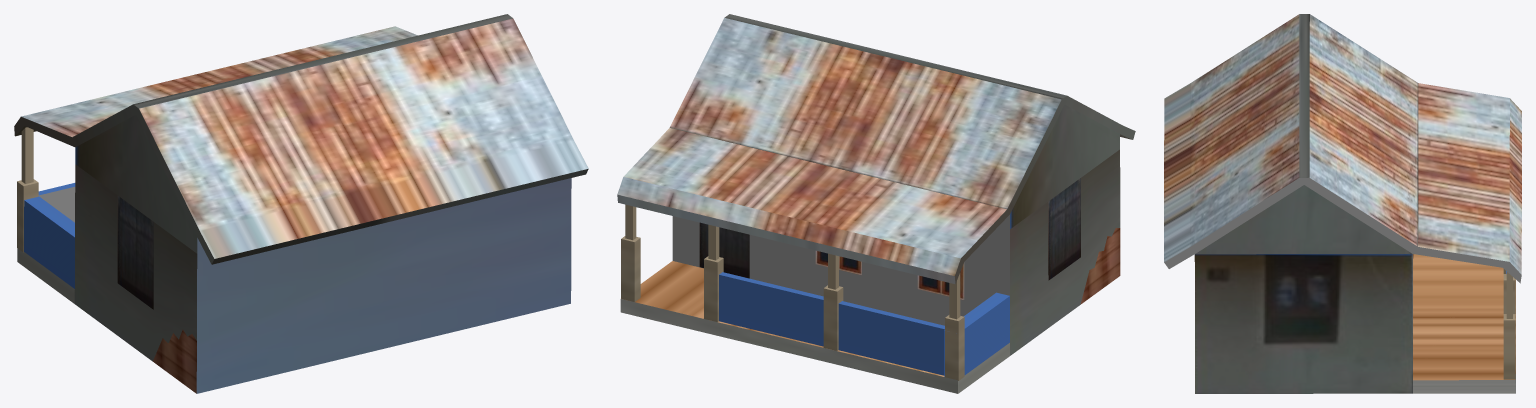
Rendered from indo.glb.
3 renders of one model, left to right at view 1: azimuth 30°, elevation 25°; view 2: azimuth 150°, elevation 25°; view 3: azimuth 270°, elevation 25°, orthographic. The views are drawn at different scales.
Parts seen in each view (by area): view 1: house_indo; view 2: house_indo; view 3: house_indo.
Part boxes in pixels (left/top/right/bottom): house_indo: left=14, top=14, right=588, bottom=393; house_indo: left=617, top=14, right=1135, bottom=393; house_indo: left=1164, top=14, right=1521, bottom=393.
Size of the model in its own units: 9.46 by 5.87 by 8.76.
1 material, 1 textured.
